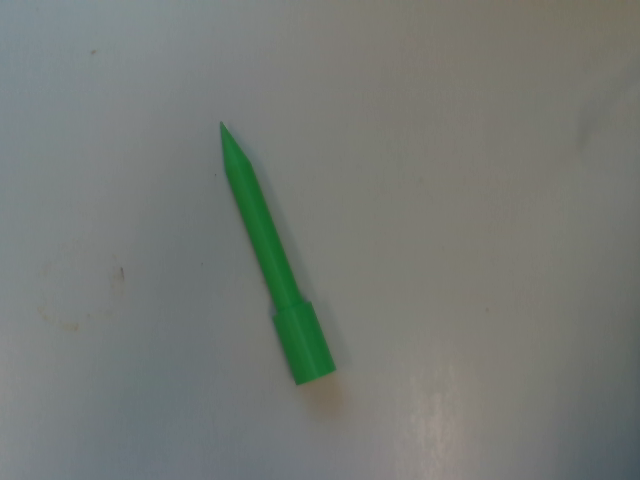Probe: (215, 112, 344, 395)
